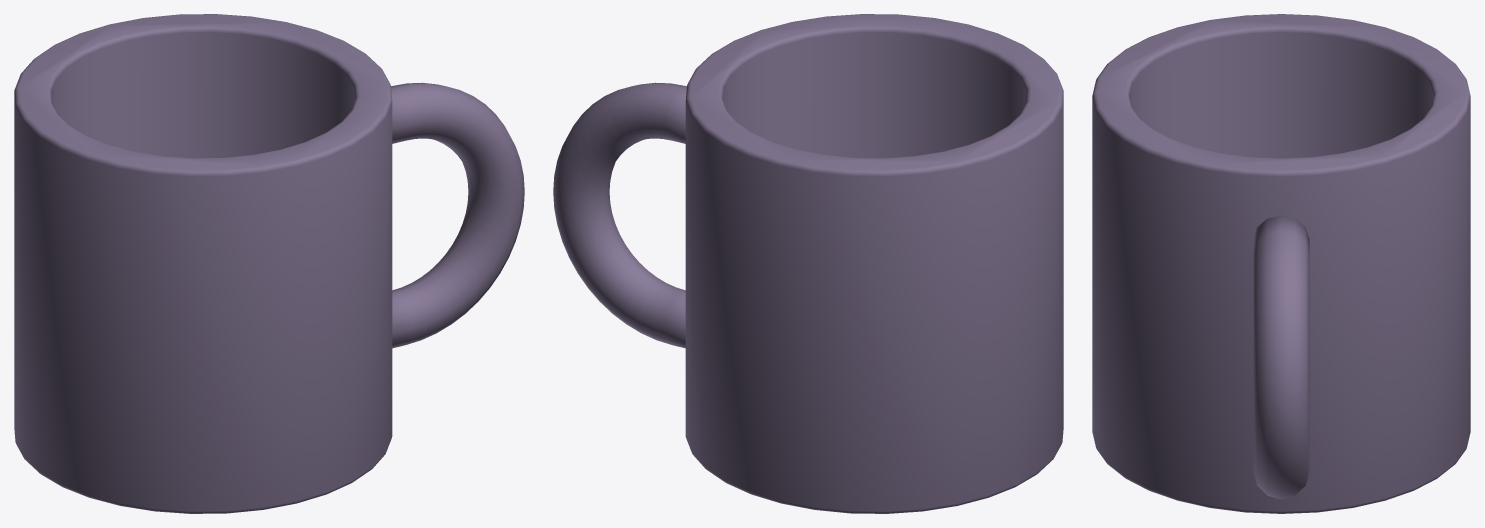
Rendered from kubek1.fbx.
The picture shows the model from 3 angles, left to right: view 1: azimuth 30°, elevation 25°; view 2: azimuth 150°, elevation 25°; view 3: azimuth 270°, elevation 25°; orthographic projection.
Visible parts, largest first — view 1: kubek, raczka; view 2: kubek, raczka; view 3: kubek, raczka.
Boxes of the visible parts, x1,y1,x2,y2 form: kubek: [14, 14, 392, 513]; raczka: [391, 82, 524, 348]; kubek: [685, 14, 1063, 513]; raczka: [553, 82, 686, 348]; kubek: [1092, 14, 1470, 513]; raczka: [1253, 215, 1309, 499].
Size of the model in its own units: 117 by 80 by 80.
